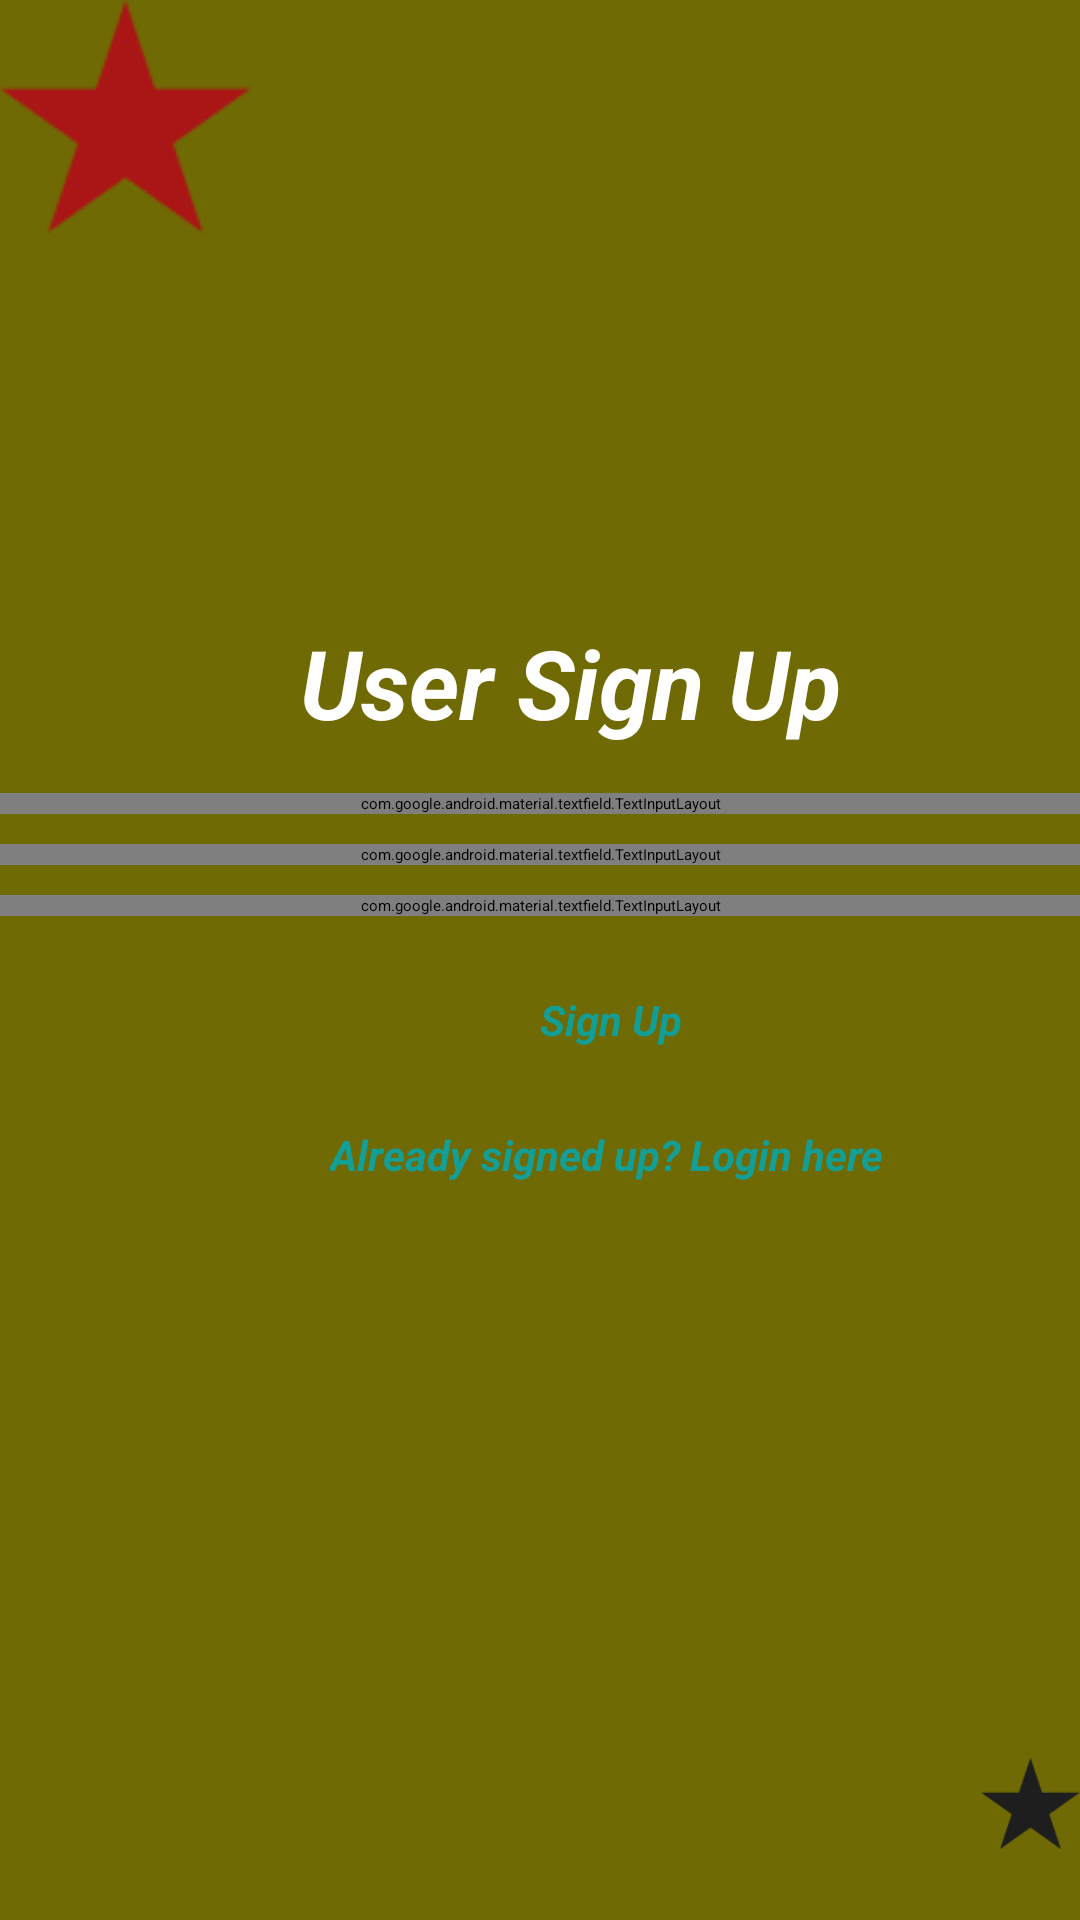

Where to tap for icons on this 1080px×1920px app screen, as (x,y):
star: (125,118), (1030,1804)
